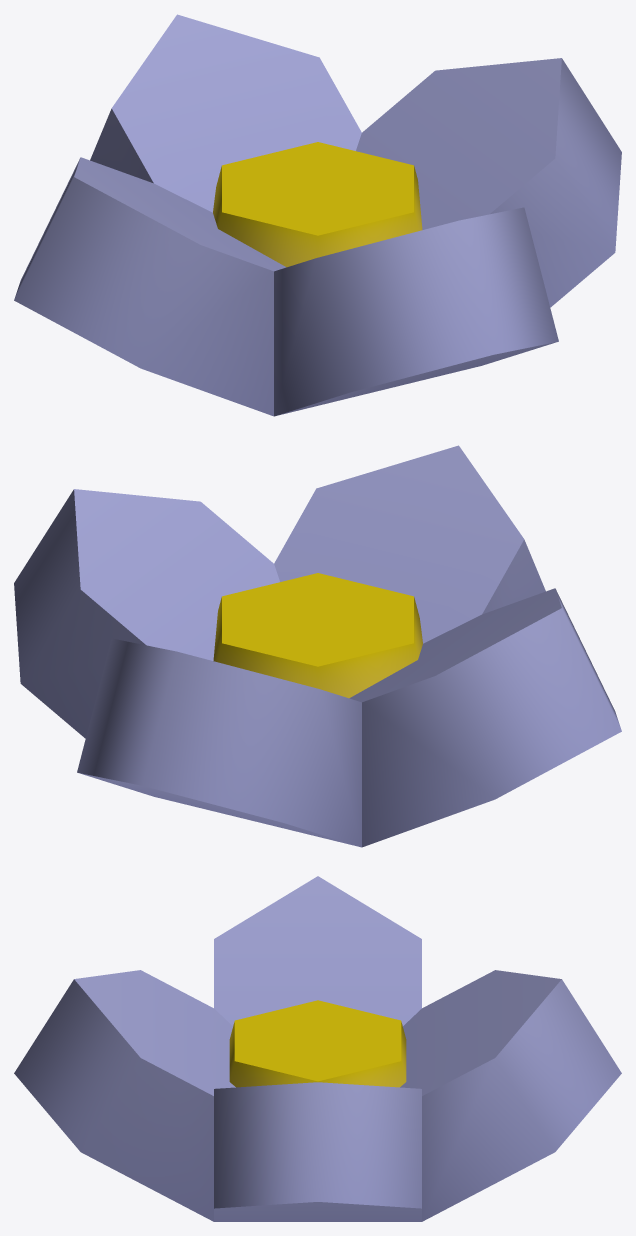
Rendered from organic-flower-a.glb.
3 views of the same model, one above another, from view 1: azimuth 30°, elevation 25°; view 2: azimuth 150°, elevation 25°; view 3: azimuth 270°, elevation 25° (orthographic). The views are drawn at different scales.
Visible parts, largest first — view 1: organic-flower-a; view 2: organic-flower-a; view 3: organic-flower-a.
Part boxes in pixels (left/top/right/bottom): organic-flower-a: left=14, top=14, right=621, bottom=416; organic-flower-a: left=14, top=445, right=621, bottom=847; organic-flower-a: left=14, top=876, right=621, bottom=1221.
Bounding box in the file's own units: 0.1406 × 0.0508 × 0.1406.
